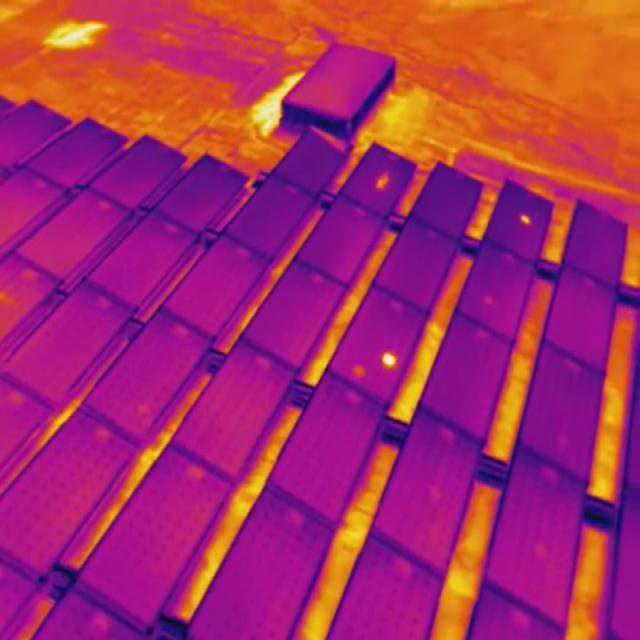Orange-Spots: (380, 352, 398, 368), (376, 170, 389, 188), (352, 364, 365, 378), (520, 216, 530, 223), (485, 296, 493, 303)
